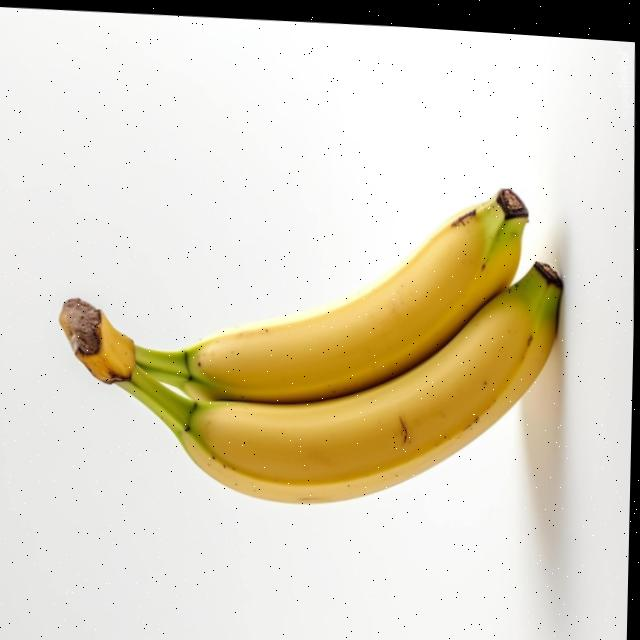Banana: (119, 256, 560, 497), (62, 181, 528, 398)
